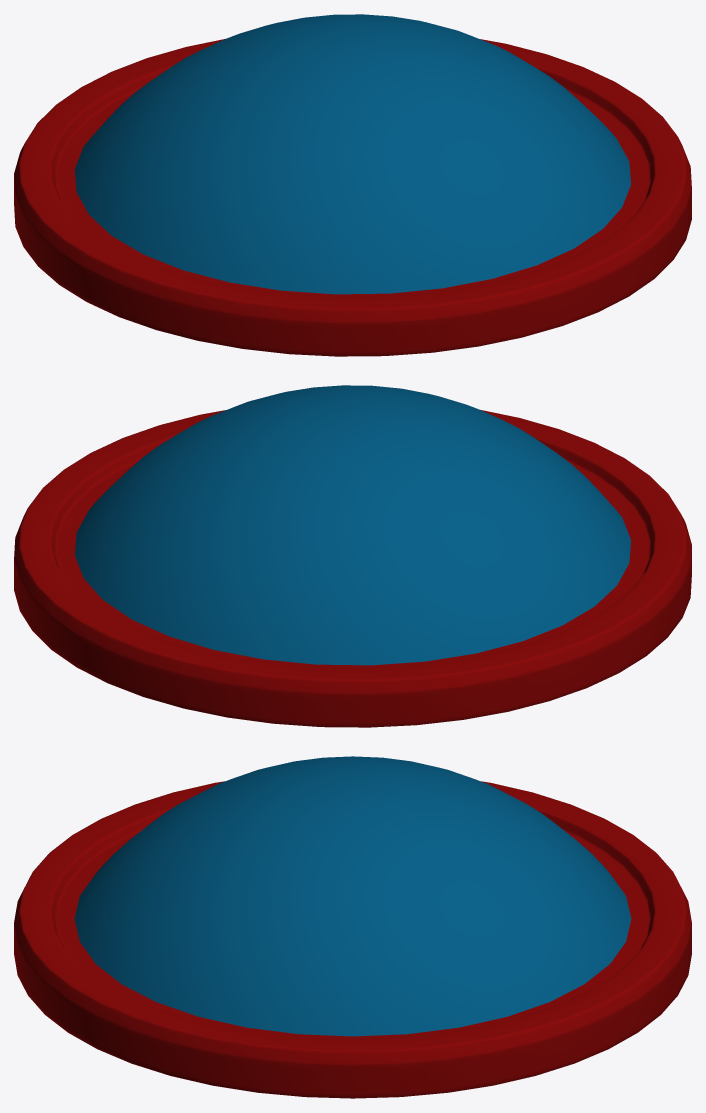
File: Lampe hp.FBX
3 renders of one model, top to bottom at view 1: azimuth 30°, elevation 25°; view 2: azimuth 150°, elevation 25°; view 3: azimuth 270°, elevation 25°, orthographic.
Visible parts, largest first — view 1: Lampes; view 2: Lampes; view 3: Lampes.
Boxes of the visible parts, bbox=[...] form: Lampes: bbox=[14, 14, 691, 356]; Lampes: bbox=[14, 385, 691, 727]; Lampes: bbox=[14, 756, 691, 1098].
Bounding box in the file's own units: 541 × 147 × 541.
